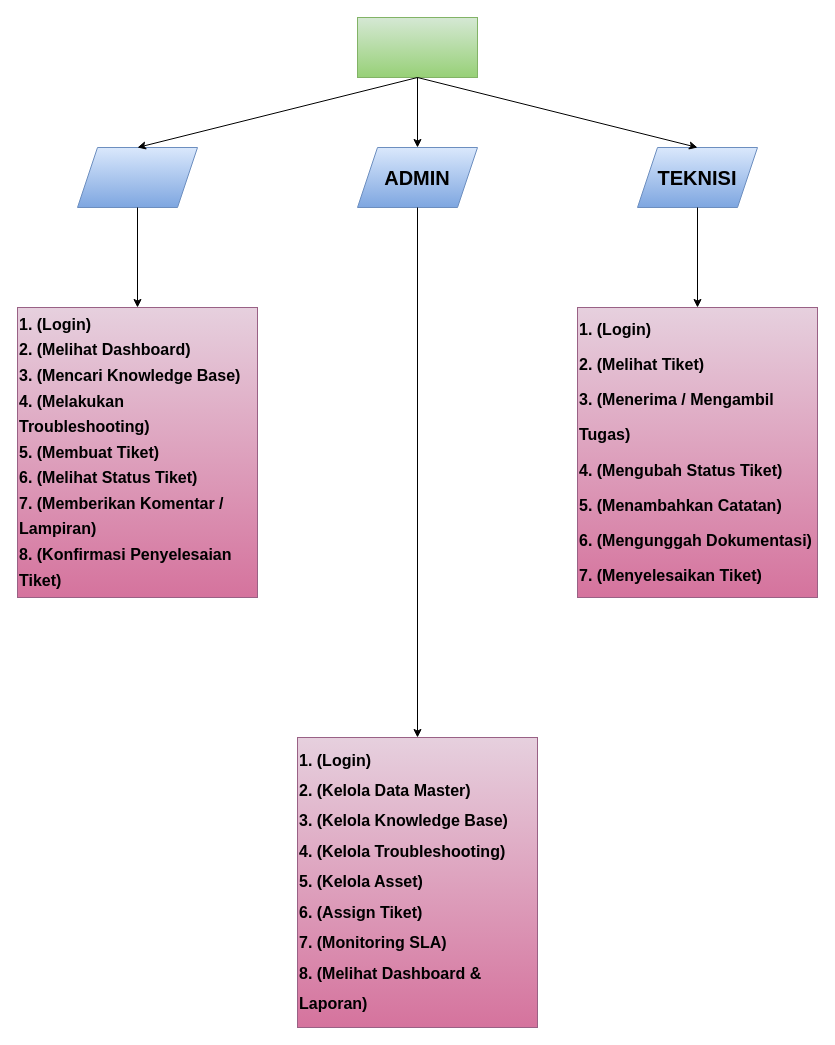
Image size: 835x1045. Some labels were removed from this diagram. Each missing label, with the box of its shape:
LOGIN: (356, 16, 478, 78)
USER: (76, 146, 198, 208)
